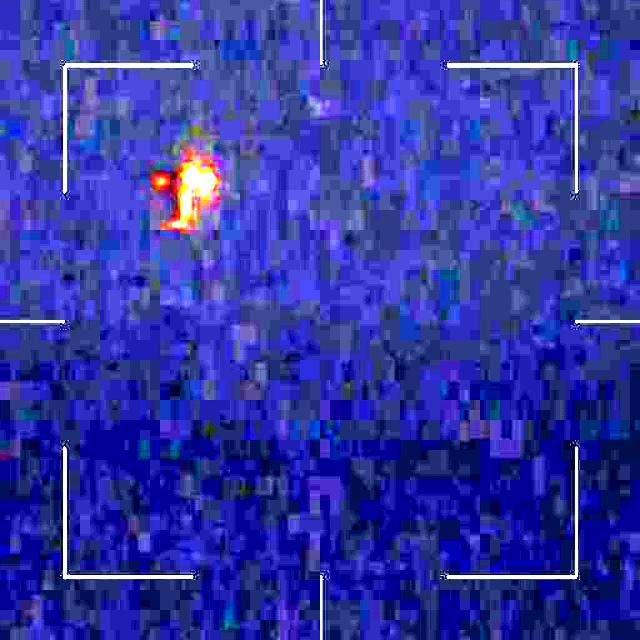bird: (145, 150, 219, 230)
